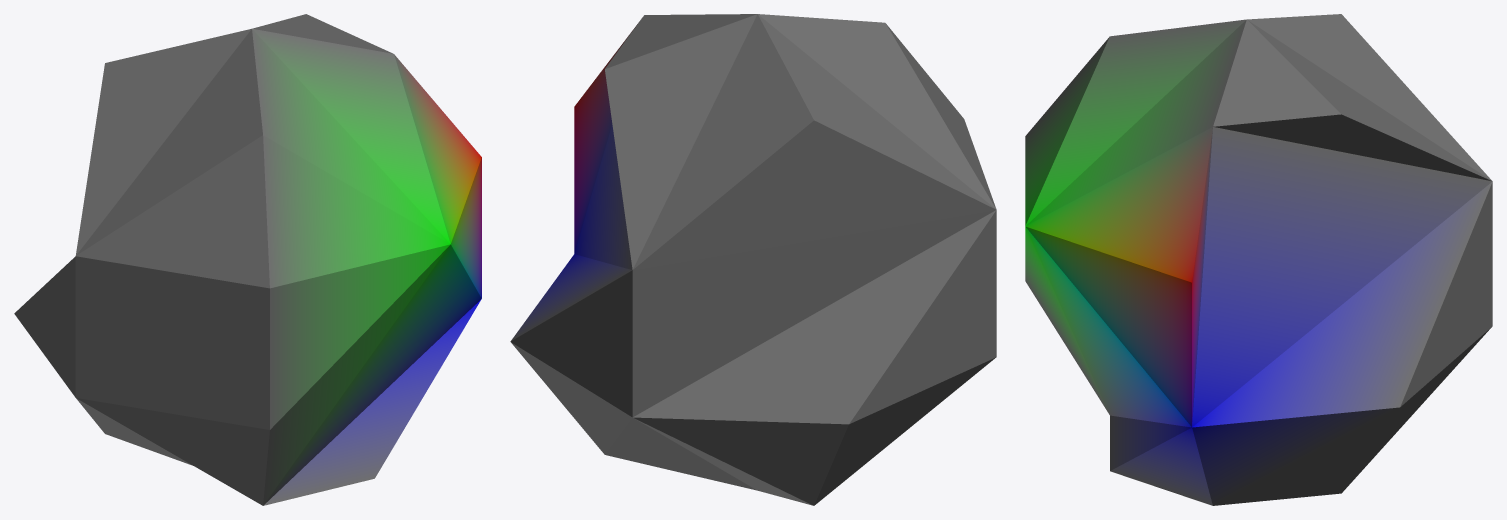
File: before_cleaning_conquest_13.obj
The picture shows the model from 3 angles, left to right: view 1: azimuth 30°, elevation 25°; view 2: azimuth 150°, elevation 25°; view 3: azimuth 270°, elevation 25°; orthographic projection. The views are drawn at different scales.
Size of the model in its own units: 1.85 by 2 by 1.81.
